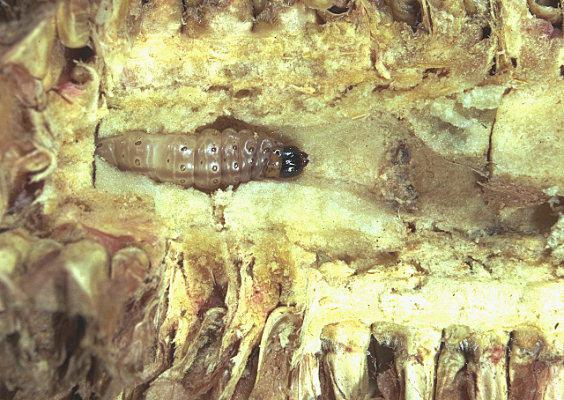caterpillars: (85, 104, 325, 201)
